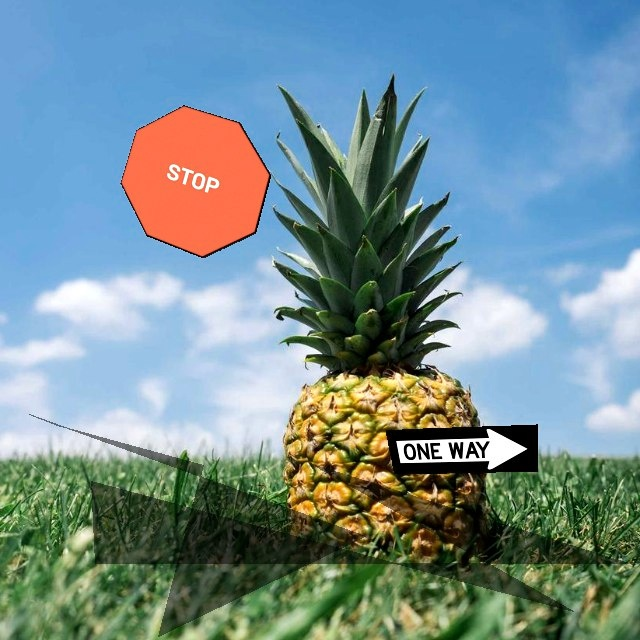ONE_WAY_ right: (385, 424, 538, 474)
STOP: (120, 105, 271, 258)
